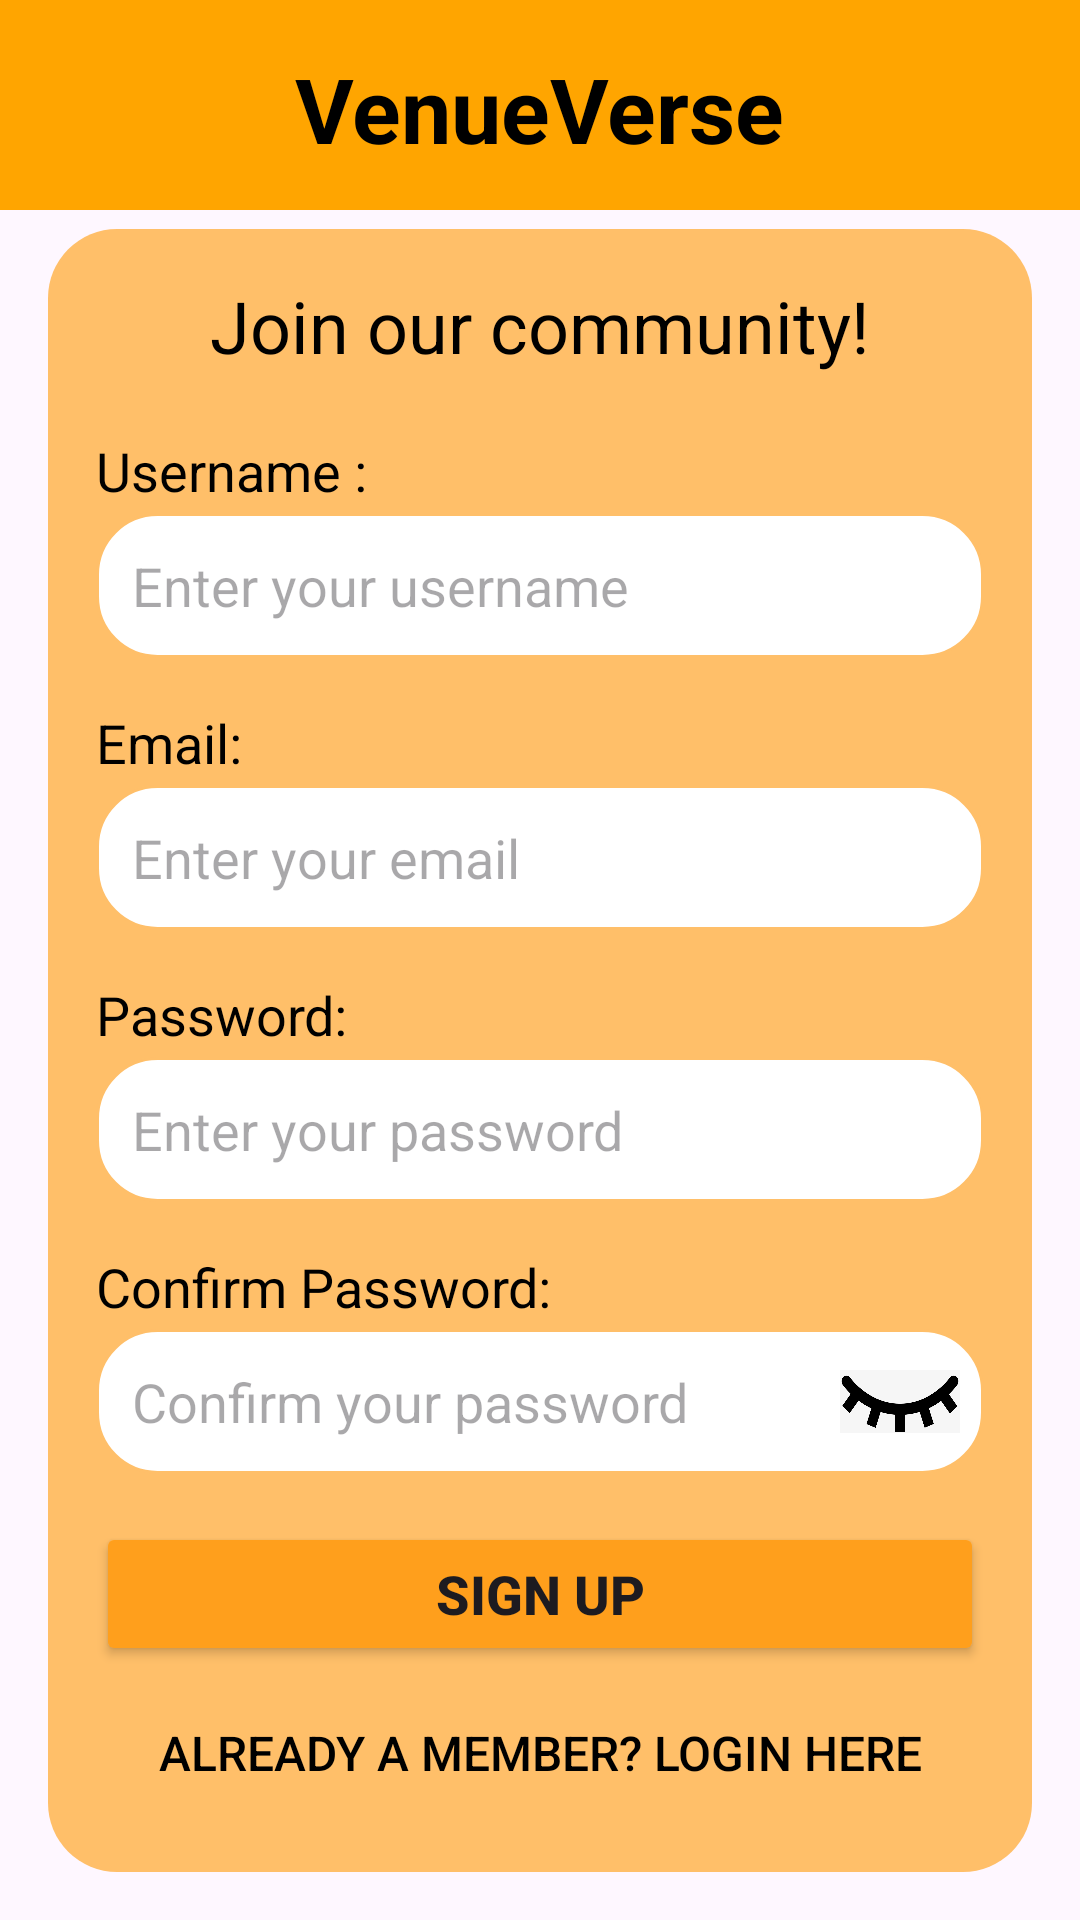

Locate icon controls on the screen. Image size 1080px×1920px, boxes as box(x1, y1, x2, y2).
eyec: box(841, 1375, 959, 1432)
